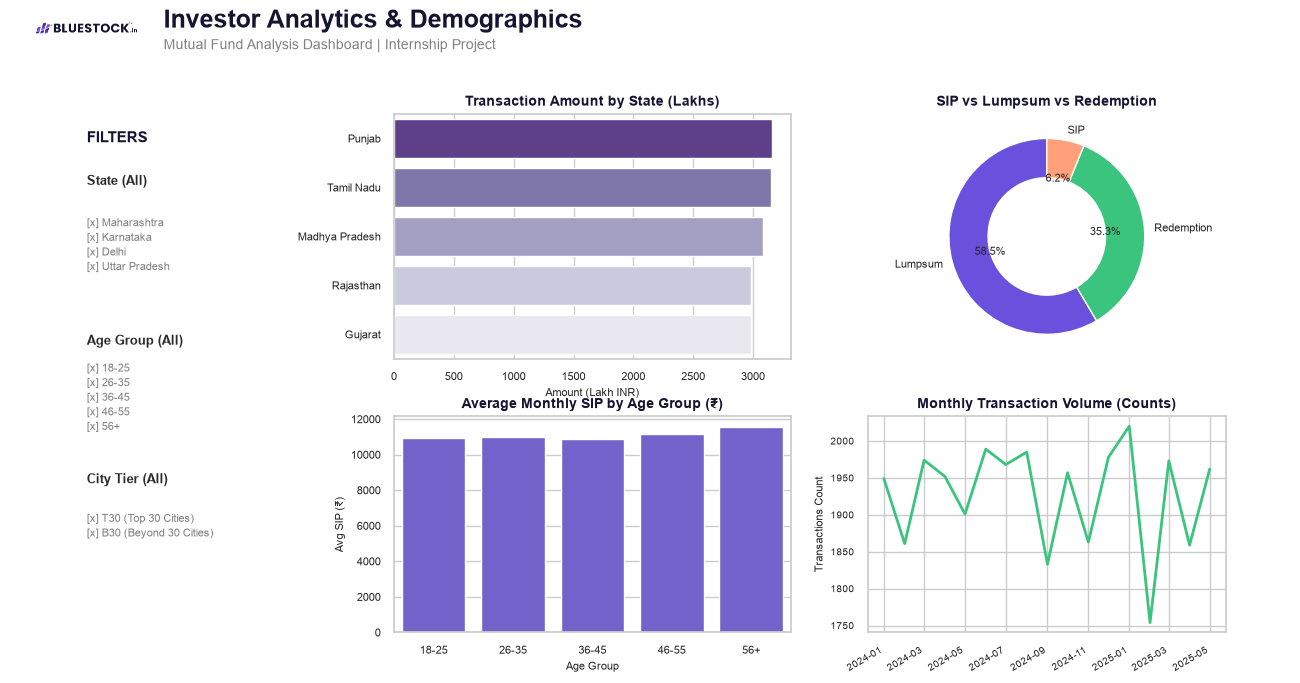

Layout of this report page (visuals, bound fields, positions):
{"tool":"powerbi","page":{"name":"Investor Analytics","canvas":[1280,720],"ordinal":2},"visuals":[{"type":"slicer","fields":{"Values":["fact_transactions.state"]},"box":[50,50,250,150]},{"type":"barChart","fields":{"Category":["fact_transactions.state"],"Y":["fact_transactions.Transaction Amount"]},"box":[320,50,450,300]},{"type":"donutChart","fields":{"Category":["fact_transactions.transaction_type"],"Y":["fact_transactions.Transaction Amount"]},"box":[790,50,440,300]},{"type":"slicer","fields":{"Values":["fact_transactions.age_group"]},"box":[50,220,250,150]},{"type":"barChart","fields":{"Category":["fact_transactions.age_group"],"Y":["fact_transactions.Average SIP Amount"]},"box":[320,370,450,300]},{"type":"lineChart","fields":{"Category":["dim_date.month_name"],"Y":["fact_transactions.Transaction Volume"]},"box":[790,370,440,300]},{"type":"slicer","fields":{"Values":["fact_transactions.city_tier"]},"box":[50,390,250,150]}]}

Visuals, with their boxes on the page's 1280x720 design canvas (x1, y1, x2, y2). These are canvas units, not pixel positions in the 1300x683 screenshot, which may show the page scaled, cropped or inside an application window:
slicer - fact_transactions.state: box=[50, 50, 300, 200]
barChart - fact_transactions.state x fact_transactions.Transaction Amount: box=[320, 50, 770, 350]
donutChart - fact_transactions.transaction_type x fact_transactions.Transaction Amount: box=[790, 50, 1230, 350]
slicer - fact_transactions.age_group: box=[50, 220, 300, 370]
barChart - fact_transactions.age_group x fact_transactions.Average SIP Amount: box=[320, 370, 770, 670]
lineChart - dim_date.month_name x fact_transactions.Transaction Volume: box=[790, 370, 1230, 670]
slicer - fact_transactions.city_tier: box=[50, 390, 300, 540]
